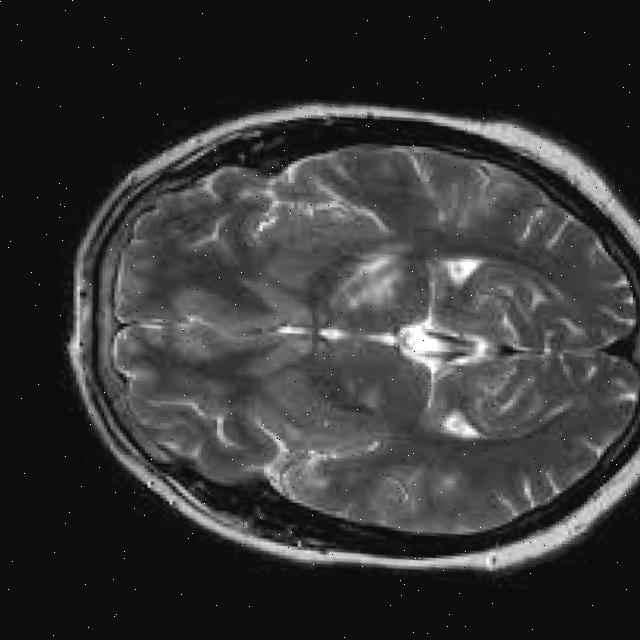NoTumor: (48, 87, 640, 580)
